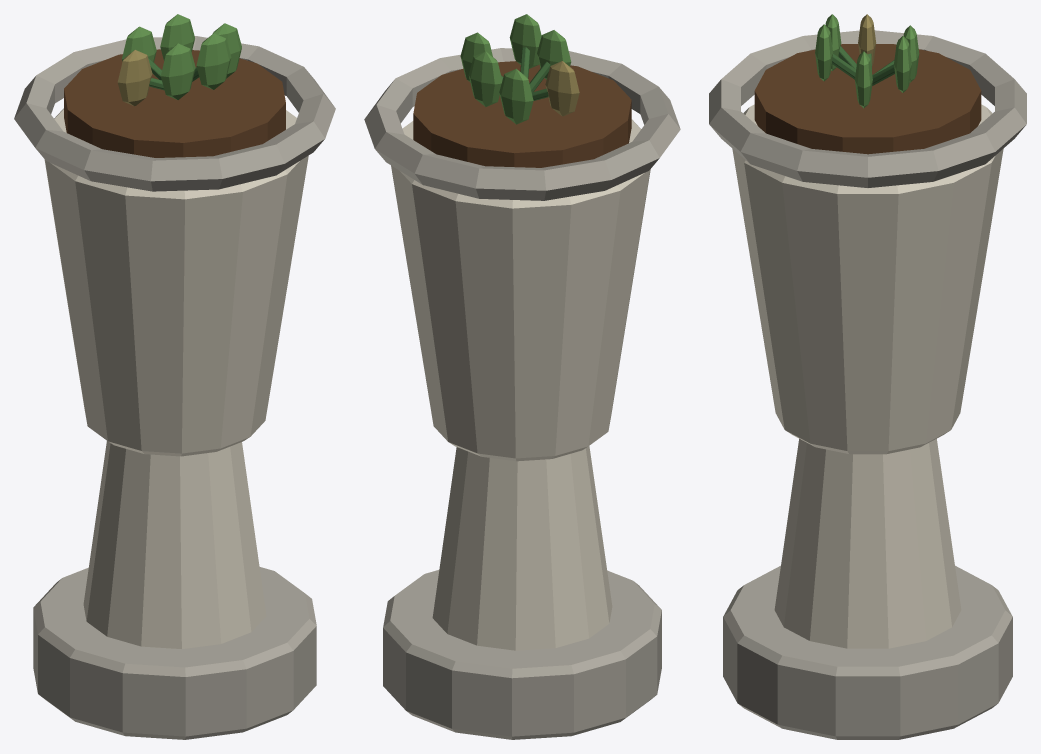
Rendered from runtime.glb.
3 views of the same model, side by side, from view 1: azimuth 30°, elevation 25°; view 2: azimuth 150°, elevation 25°; view 3: azimuth 270°, elevation 25° (orthographic). The views are drawn at different scales.
Visible parts, largest first — view 1: eiffel-historic-urn-v03_nocol; view 2: eiffel-historic-urn-v03_nocol; view 3: eiffel-historic-urn-v03_nocol.
Boxes of the visible parts, x1,y1,x2,y2 form: eiffel-historic-urn-v03_nocol: [14, 14, 335, 739]; eiffel-historic-urn-v03_nocol: [364, 14, 680, 739]; eiffel-historic-urn-v03_nocol: [709, 14, 1026, 739].
Bounding box in the file's own units: 0.8076 × 1.82 × 0.7874.
